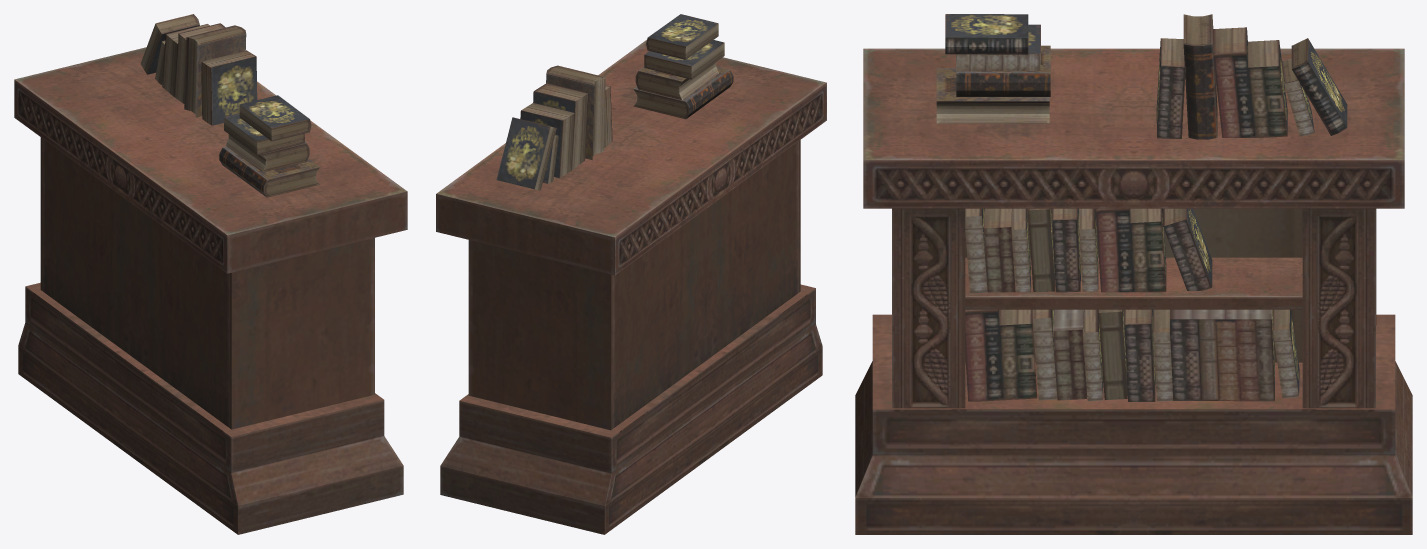
Rendered from bg_lut_lucastle_libraryprop02_sm_artree.FBX.
3 views of the same model, side by side, from view 1: azimuth 30°, elevation 25°; view 2: azimuth 150°, elevation 25°; view 3: azimuth 270°, elevation 25° (orthographic). The views are drawn at different scales.
Visible parts, largest first — view 1: bg_lut_lucastle_libraryprop02_sm_artree; view 2: bg_lut_lucastle_libraryprop02_sm_artree; view 3: bg_lut_lucastle_libraryprop02_sm_artree.
Boxes of the visible parts, bbox=[...] form: bg_lut_lucastle_libraryprop02_sm_artree: bbox=[14, 14, 407, 534]; bg_lut_lucastle_libraryprop02_sm_artree: bbox=[436, 14, 826, 534]; bg_lut_lucastle_libraryprop02_sm_artree: bbox=[855, 14, 1412, 534].
Bounding box in the file's own units: 101 × 199 × 213.
